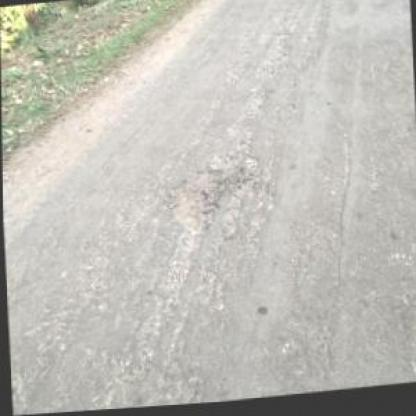pothole: (166, 169, 232, 240)
